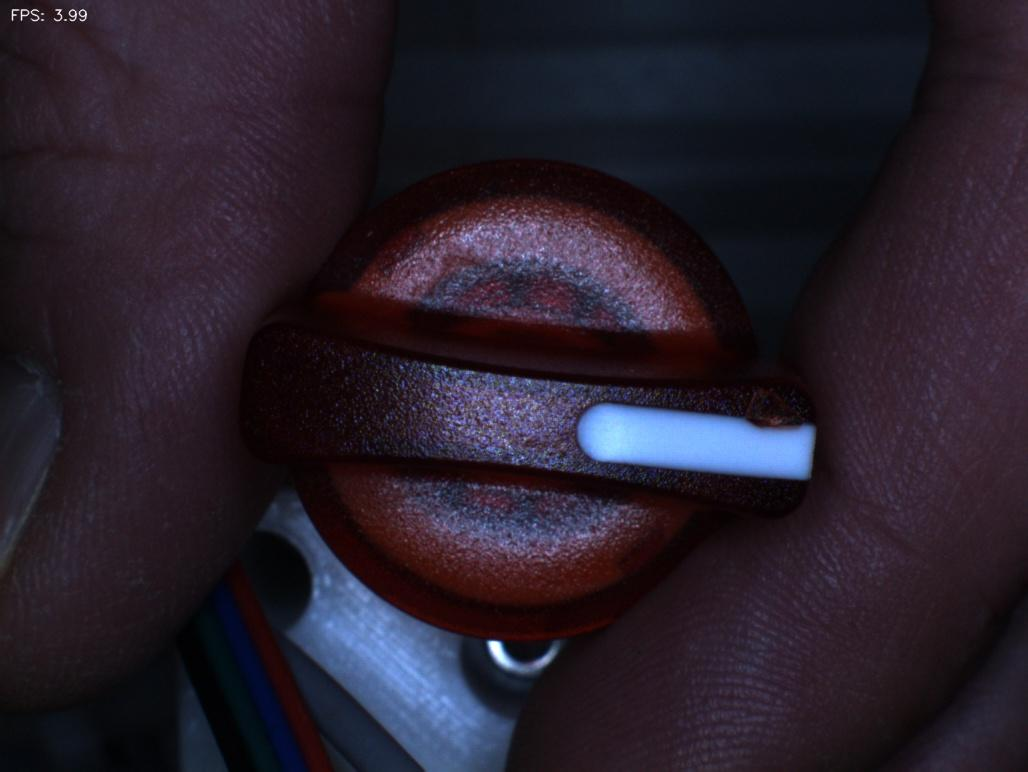Choc: (720, 359, 833, 448)
